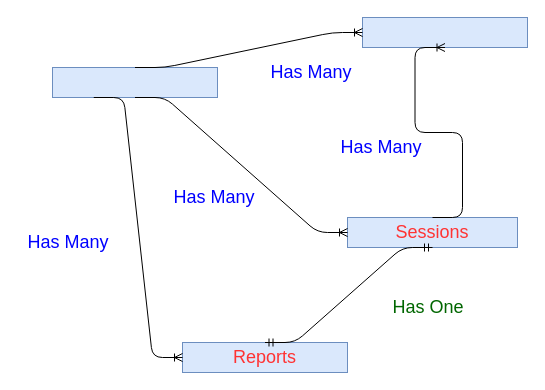
This 545x390 diagram has some shape labels left out. The centre of each missing label's shape, as x and y in pixels:
"Observations" goes at (x=445, y=32).
"Students" goes at (x=135, y=82).
